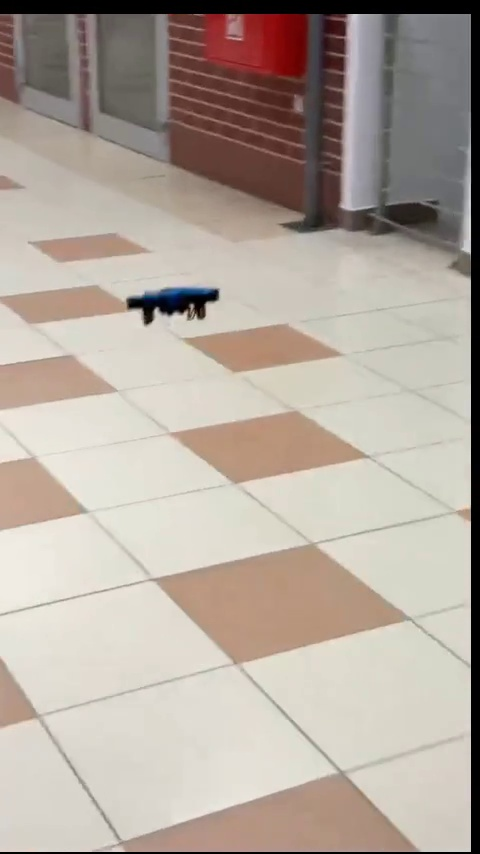drone: (126, 291, 222, 324)
